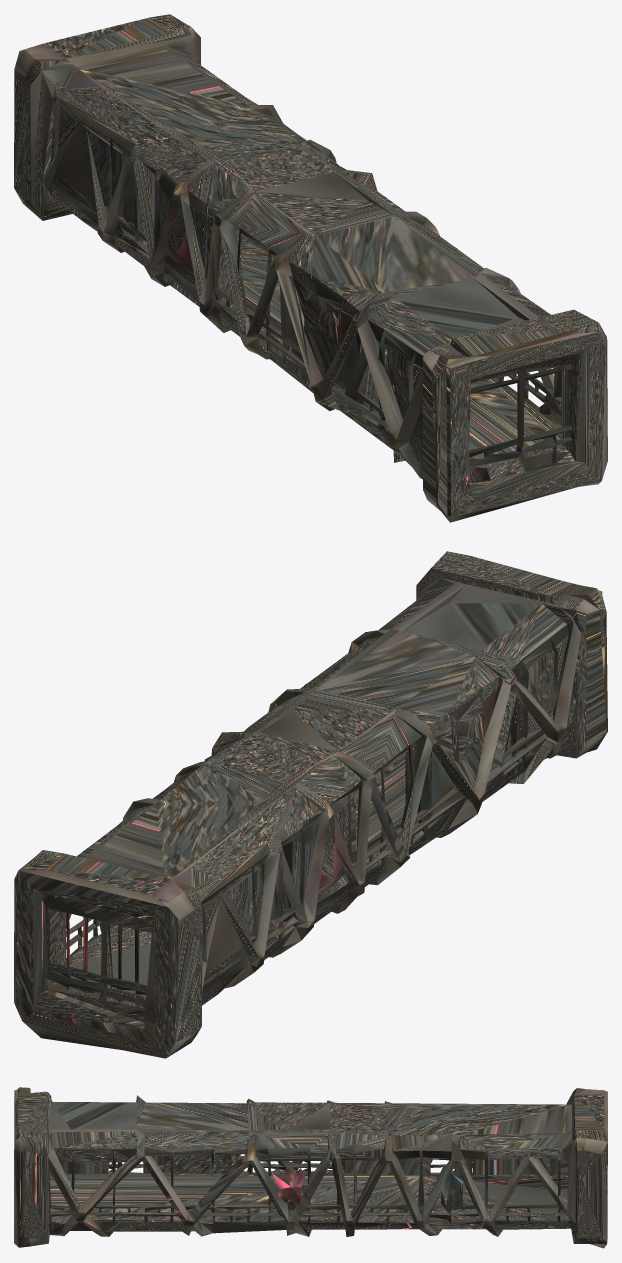
File: s06_far.glb
3 renders of one model, top to bottom at view 1: azimuth 30°, elevation 25°; view 2: azimuth 150°, elevation 25°; view 3: azimuth 270°, elevation 25°, orthographic. The views are drawn at different scales.
Parts seen in each view (by area): view 1: s06_far; view 2: s06_far; view 3: s06_far.
Part boxes in pixels (x1,y1,x2,y2): s06_far: (14, 14, 607, 522); s06_far: (14, 551, 607, 1058); s06_far: (14, 1087, 607, 1248).
Size of the model in its own units: 6.3 by 6 by 27.42.
Materials: 1 (1 with a texture image).
